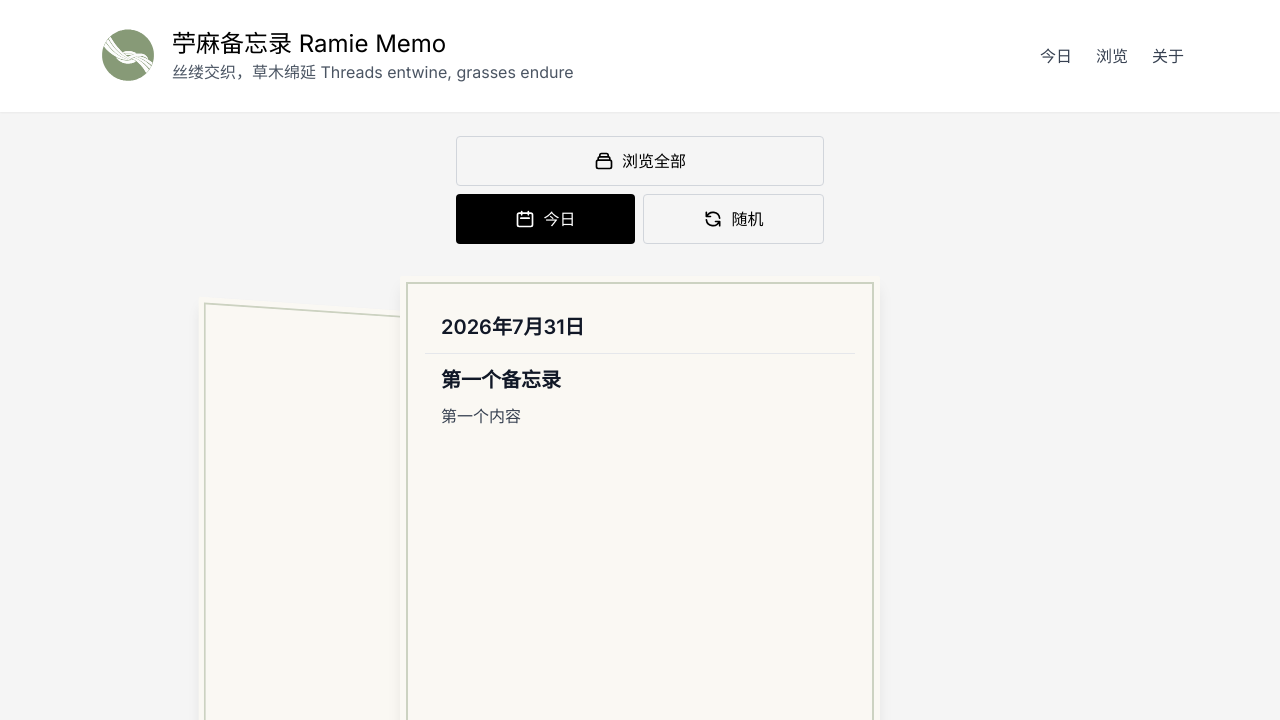
Share Button Functionality › should switch between memos when clicking random again
First click
What coordinates should you click on to do the following:
click the button "随机"
I would click on:
 (734, 219)
Its box is [643,194,824,244].
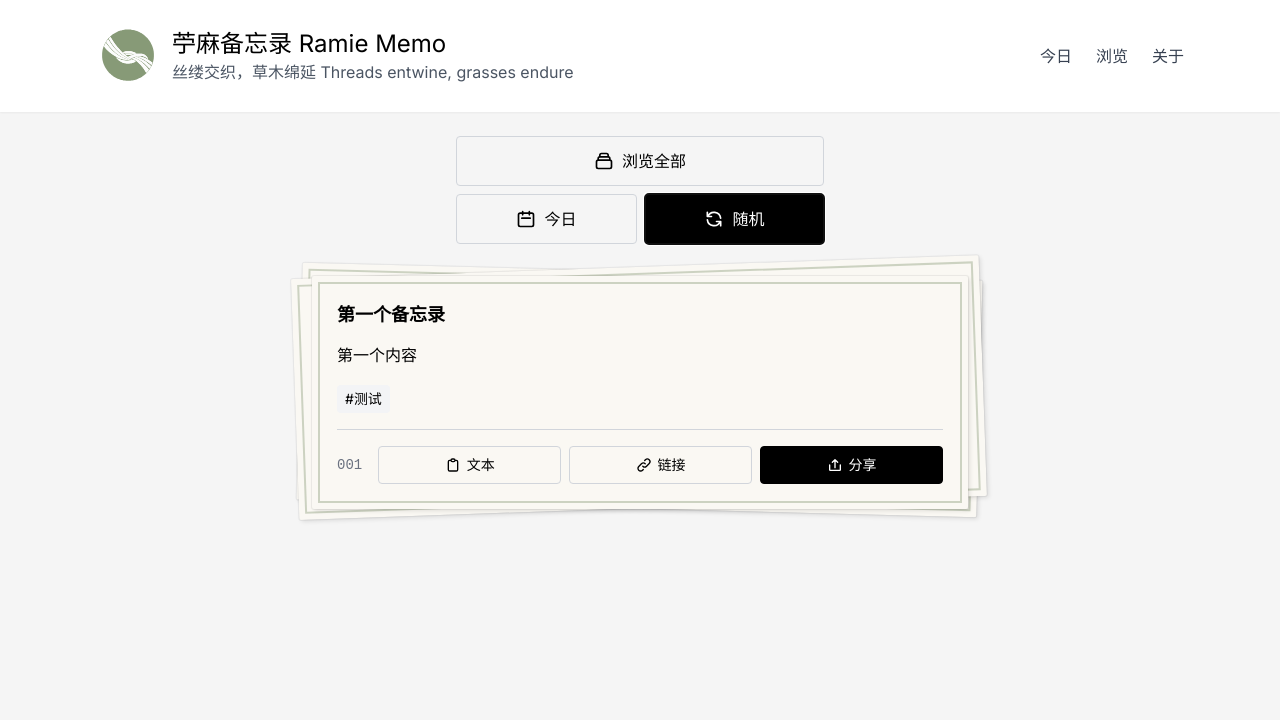
Expected: the heading "第一个备忘录" is shown, [337,304,445,325]
Second click
What coordinates should you click on to do the following:
click the button "随机"
I would click on:
 (734, 219)
Its box is [645,194,824,244].
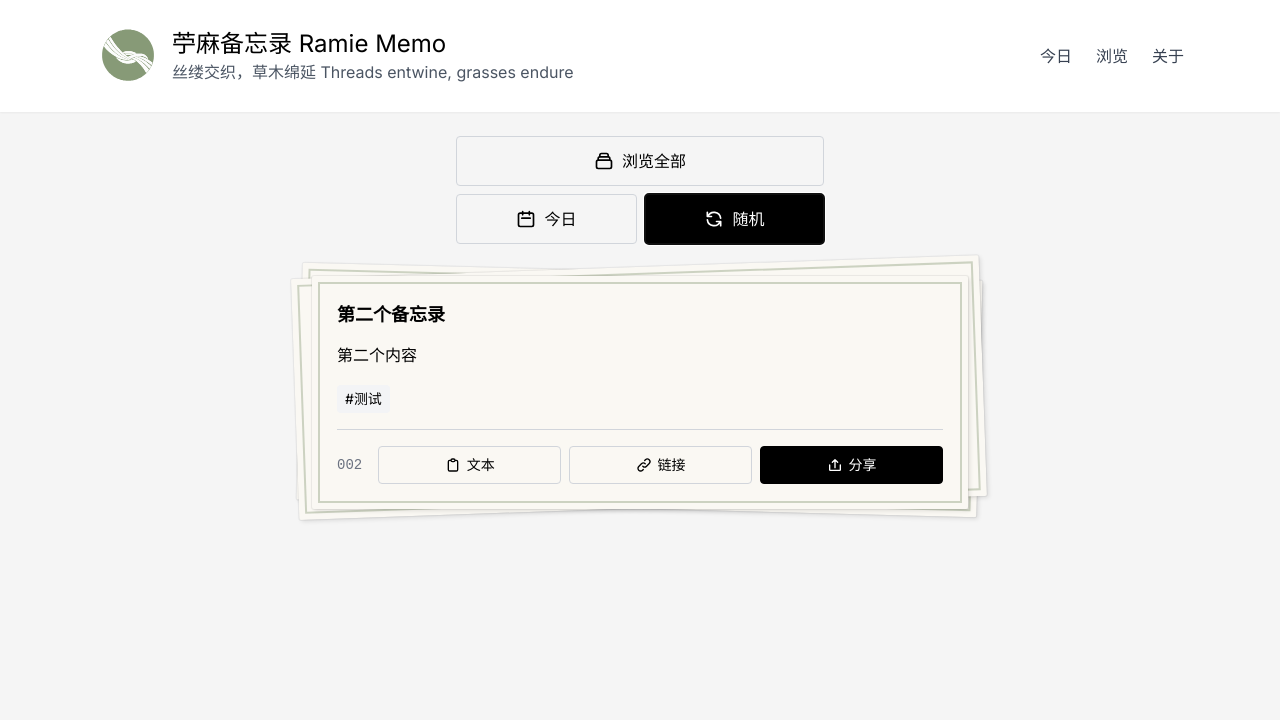
Expected: the heading "第二个备忘录" is shown, [337,304,445,325]
